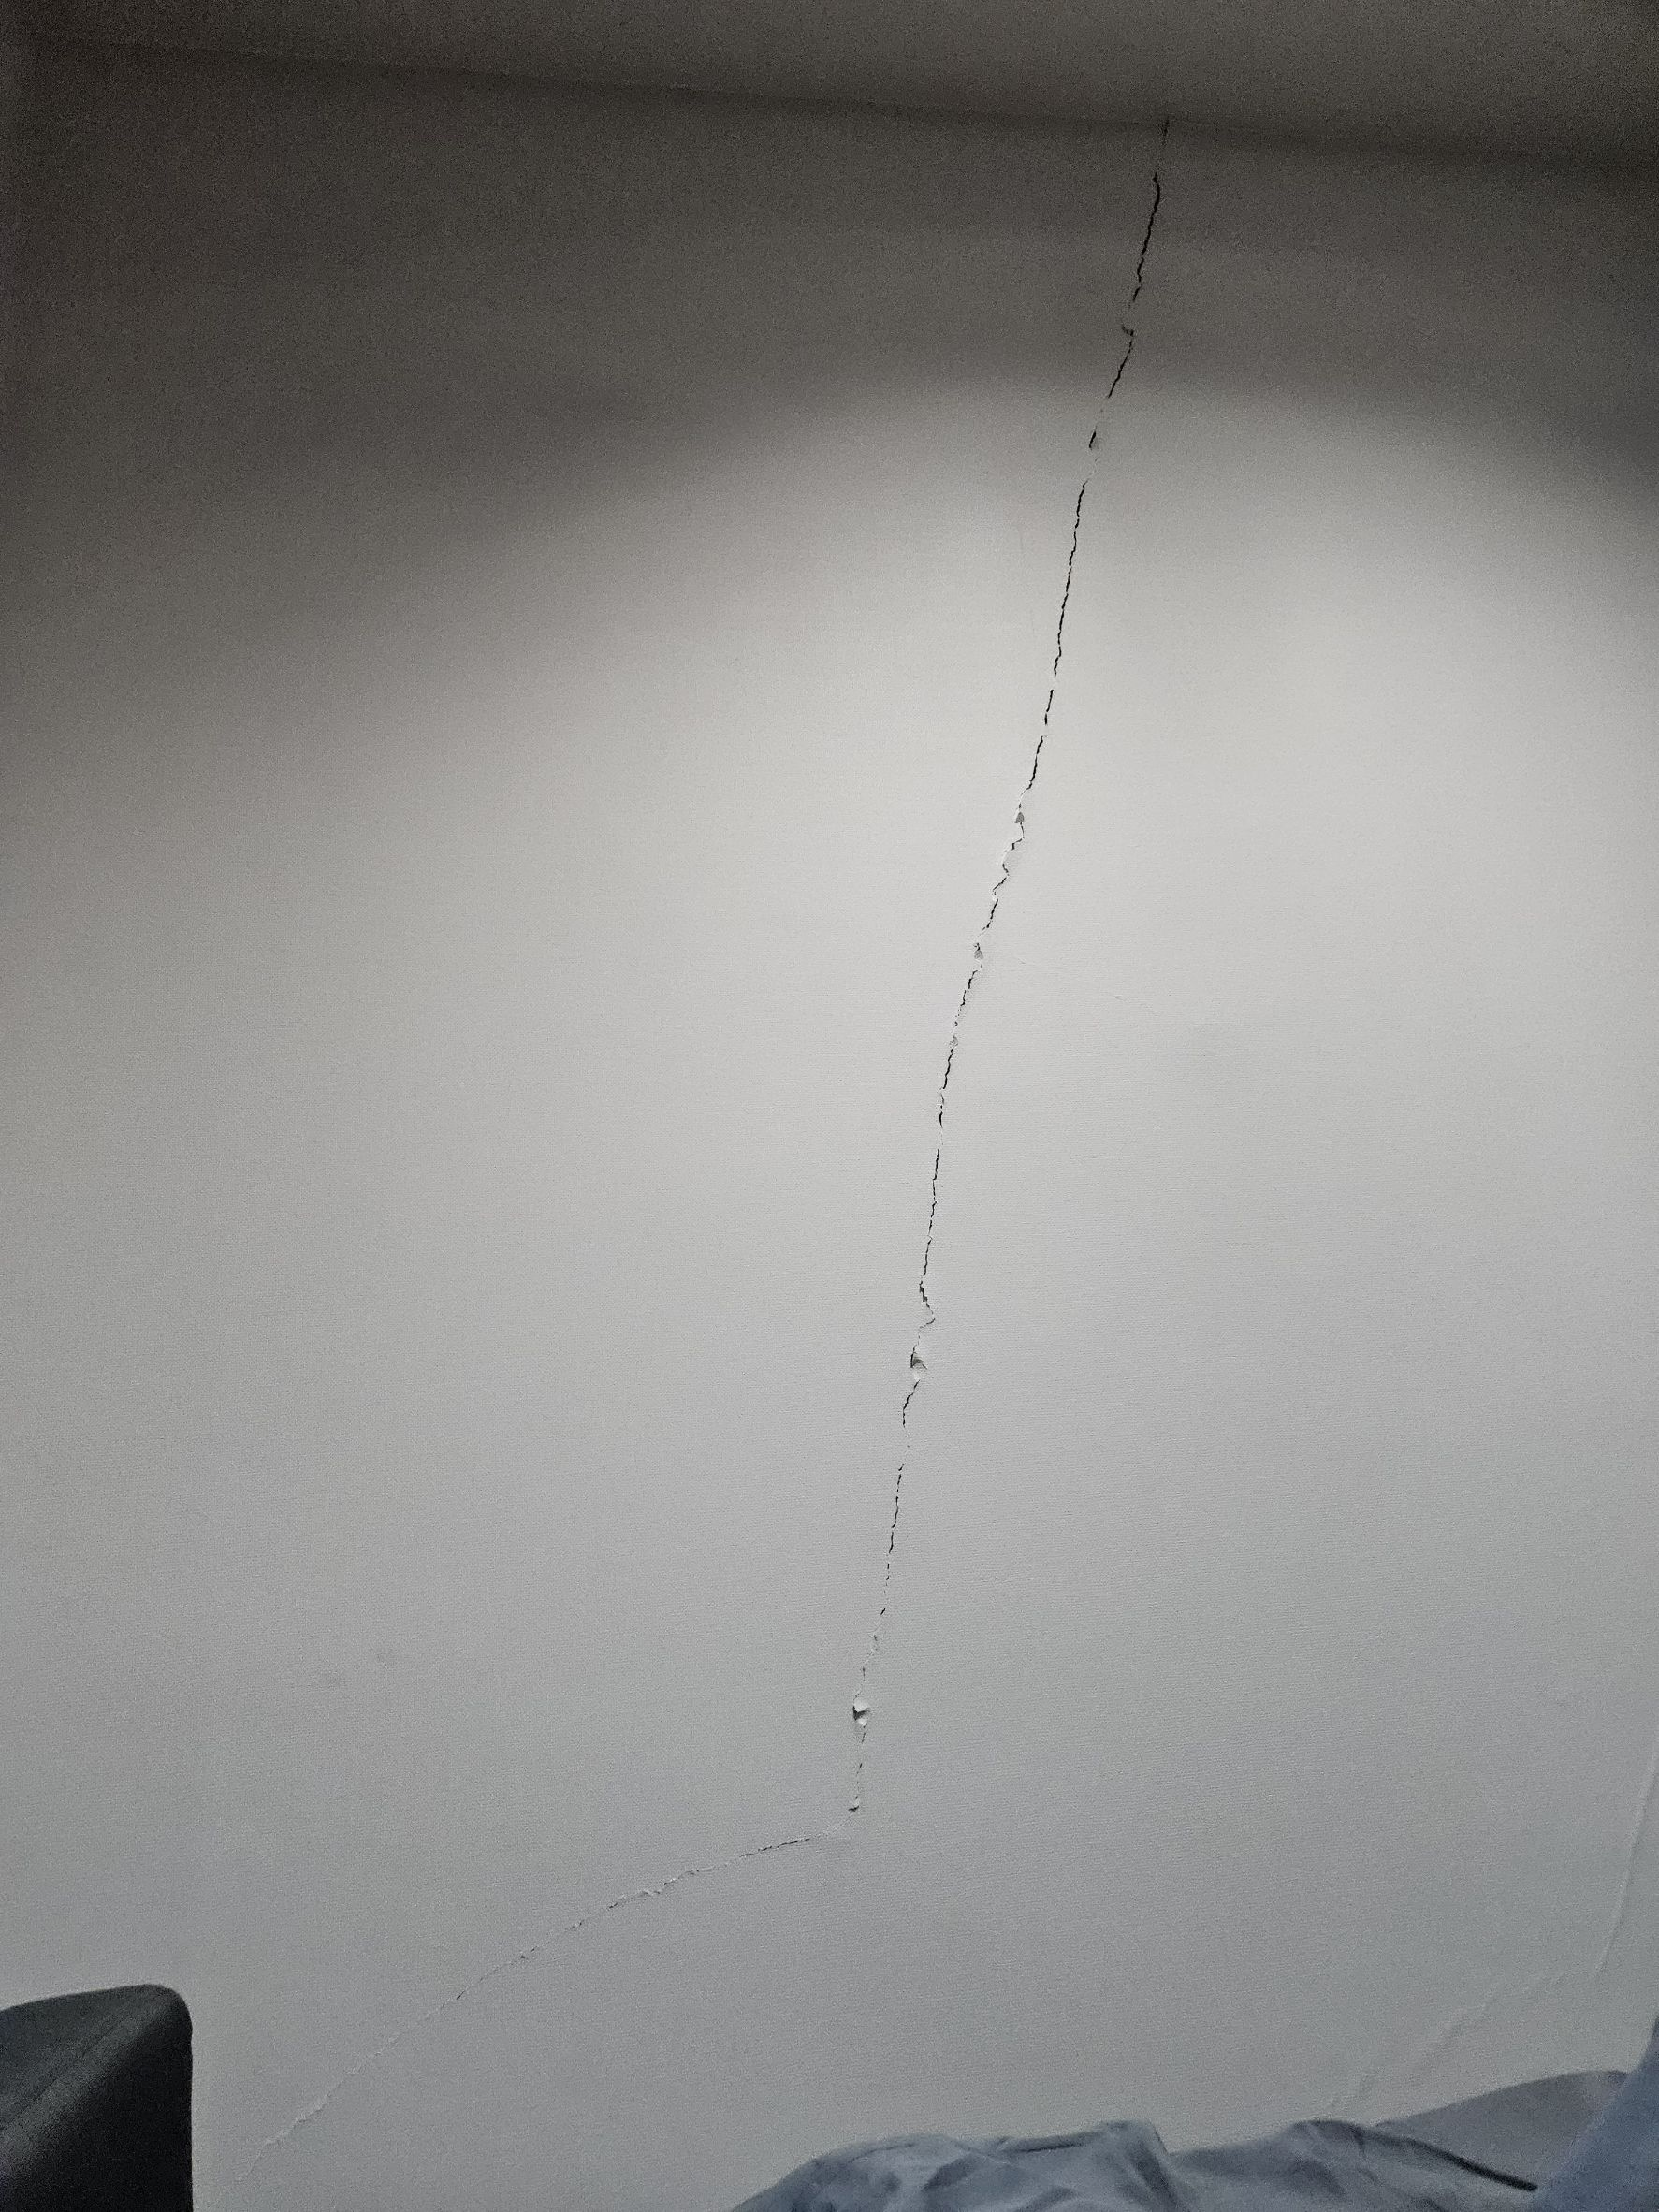Low: (234, 47, 1222, 2175)
